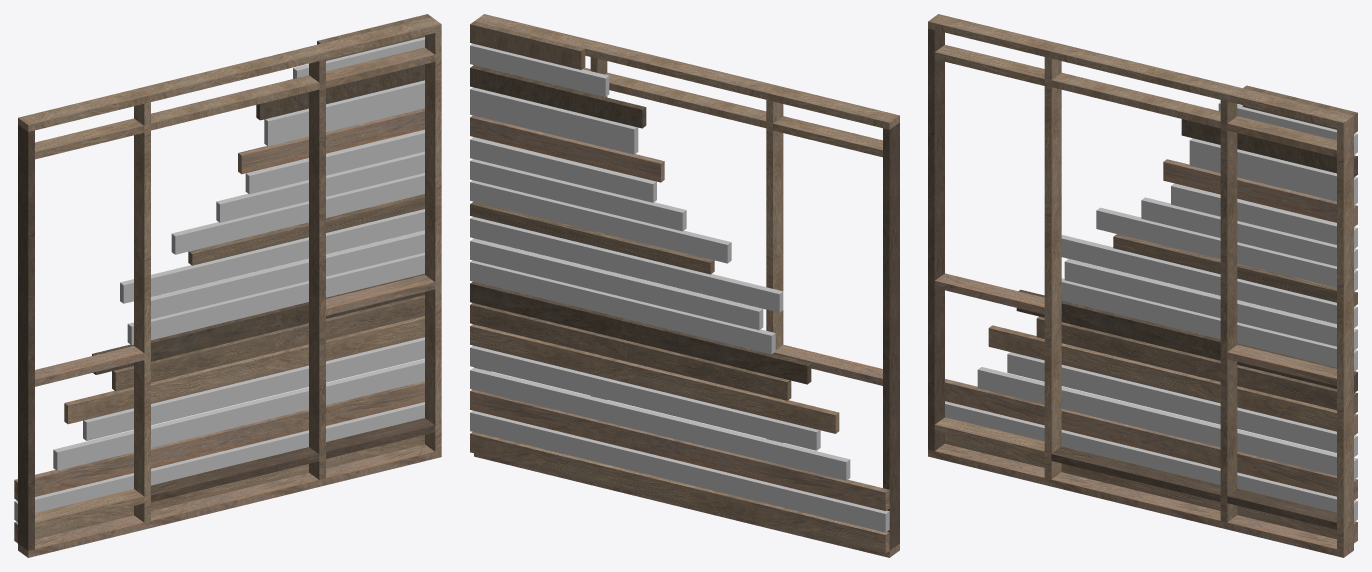
Rendered from WallPeiceDestroyE.fbx.
3 renders of one model, left to right at view 1: azimuth 30°, elevation 25°; view 2: azimuth 150°, elevation 25°; view 3: azimuth 330°, elevation 25°, orthographic.
Visible parts, largest first — view 1: WallPeiceDestroyE; view 2: WallPeiceDestroyE; view 3: WallPeiceDestroyE.
Part boxes in pixels (x1,y1,x2,y2): WallPeiceDestroyE: [14, 14, 441, 557]; WallPeiceDestroyE: [470, 14, 899, 557]; WallPeiceDestroyE: [928, 14, 1357, 557].
Size of the model in its own units: 374 by 374 by 22.
